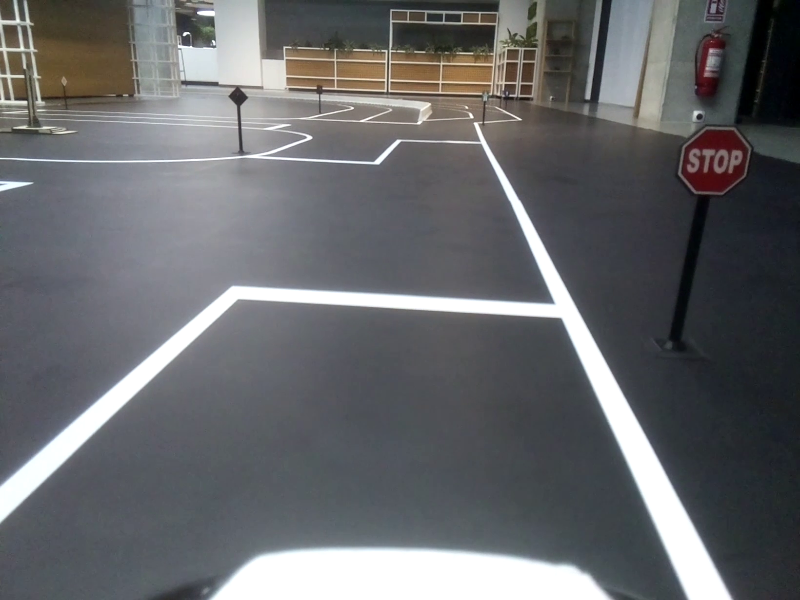stop: (674, 121, 750, 197)
